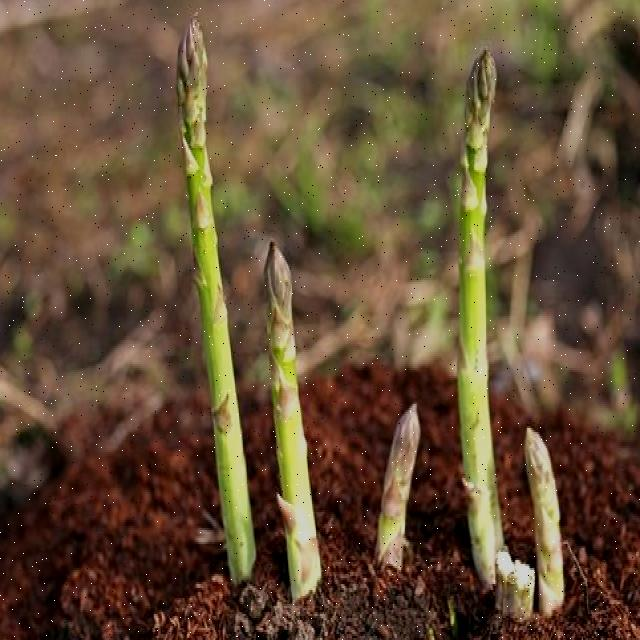aspargus: (176, 16, 255, 588), (453, 49, 514, 587), (265, 242, 322, 600)
